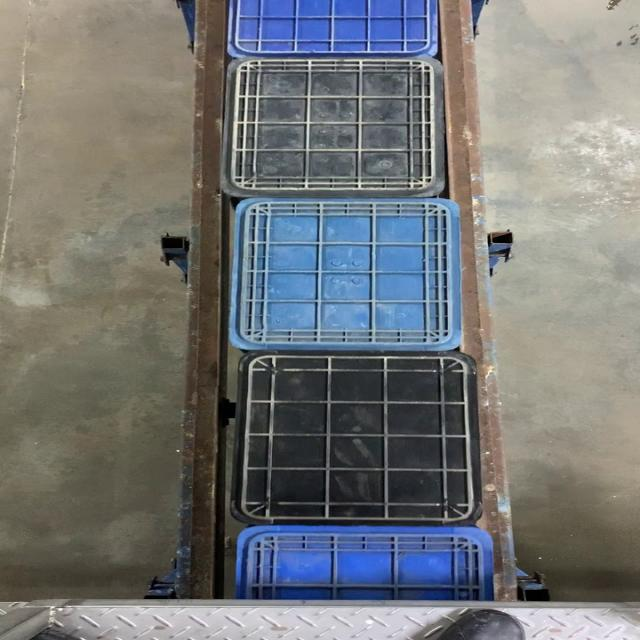Box: (232, 348, 480, 526), (232, 198, 463, 348), (224, 55, 445, 198)
